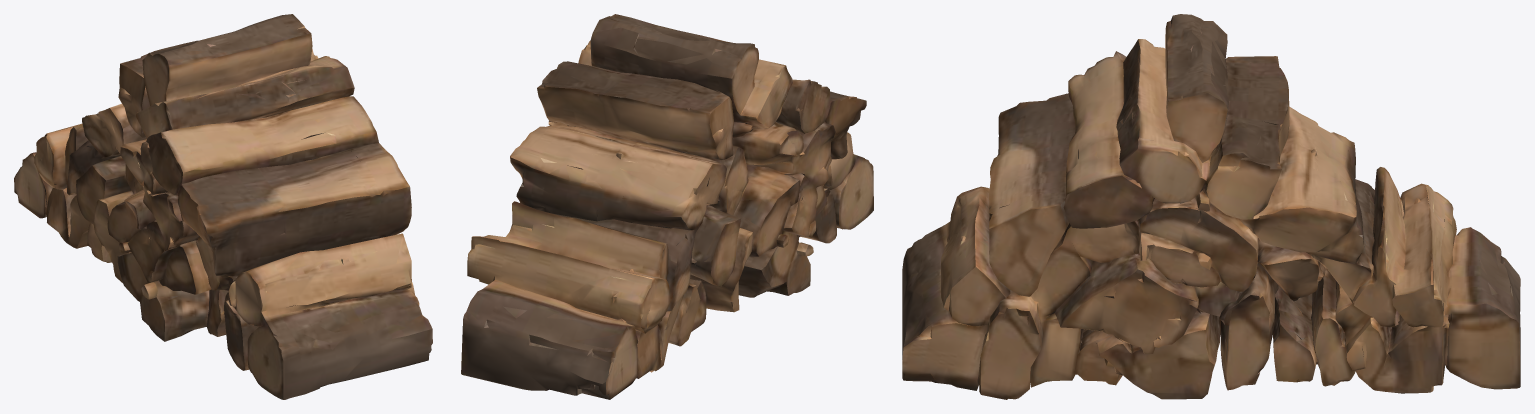
Rendered from Firewood.glb.
The picture shows the model from 3 angles, left to right: view 1: azimuth 30°, elevation 25°; view 2: azimuth 150°, elevation 25°; view 3: azimuth 270°, elevation 25°; orthographic projection. The views are drawn at different scales.
Visible parts, largest first — view 1: Firewood; view 2: Firewood; view 3: Firewood.
Part boxes in pixels (left/top/right/bottom): Firewood: left=14, top=14, right=432, bottom=399; Firewood: left=461, top=14, right=873, bottom=399; Firewood: left=902, top=14, right=1520, bottom=399.
Bounding box in the file's own units: 0.5647 × 0.6341 × 1.2.
1 material, 1 textured.
